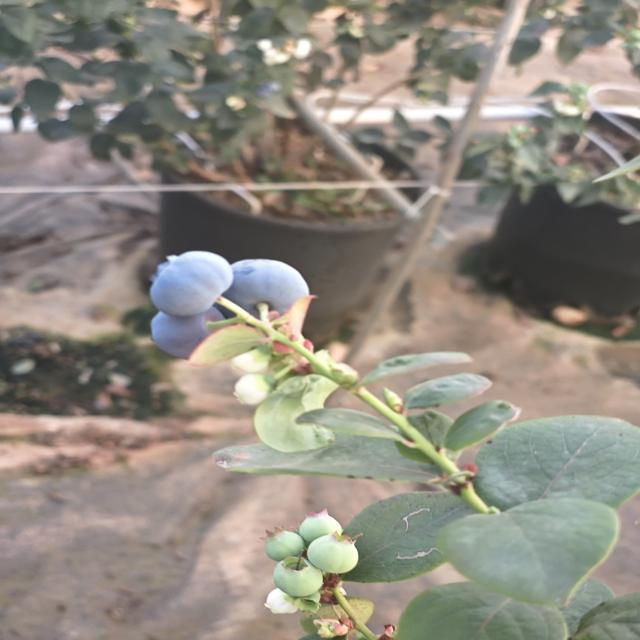ripe: (147, 249, 235, 318), (218, 254, 307, 317), (139, 306, 207, 354)
